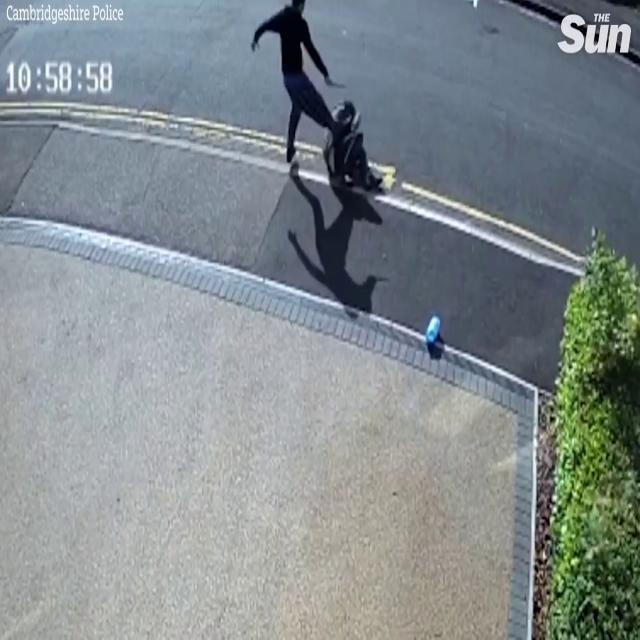Knife_Handle: (324, 73, 348, 90)
